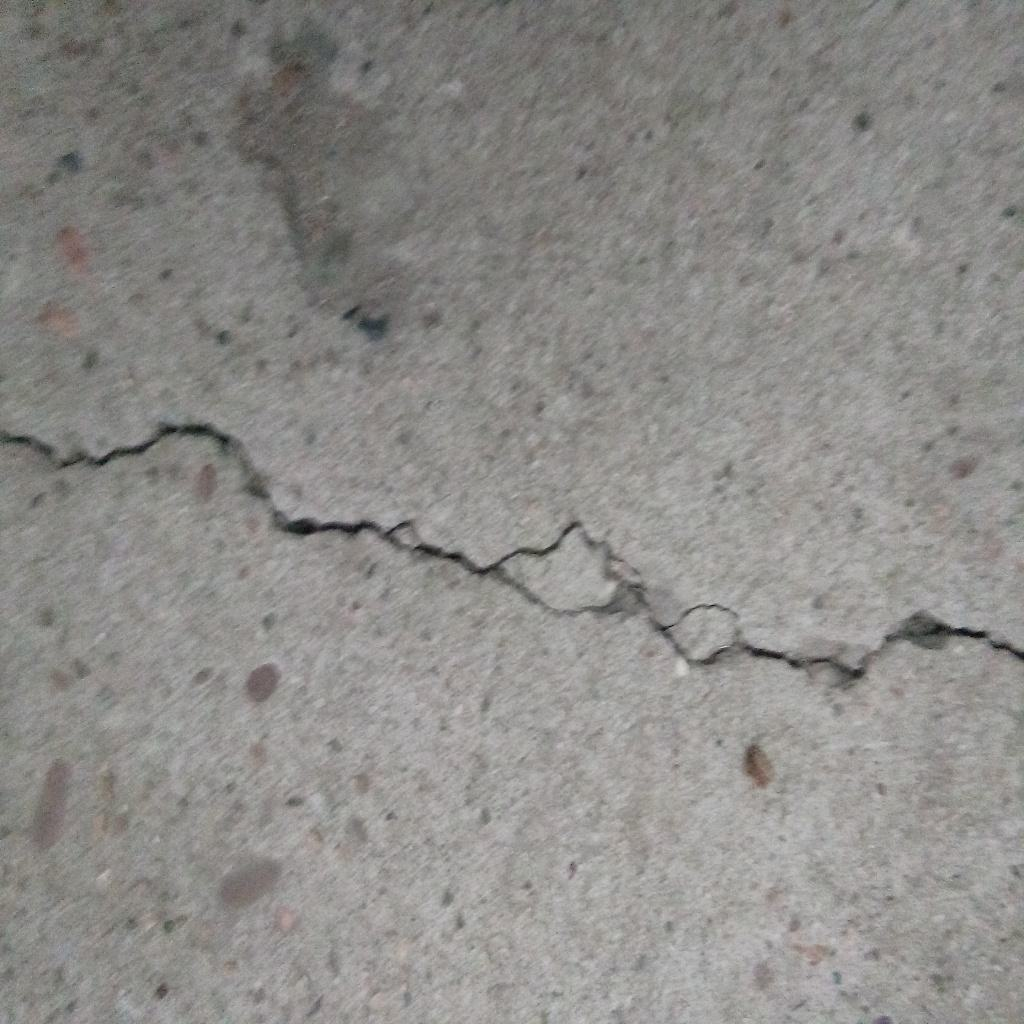Crack: (1, 422, 1024, 681)
